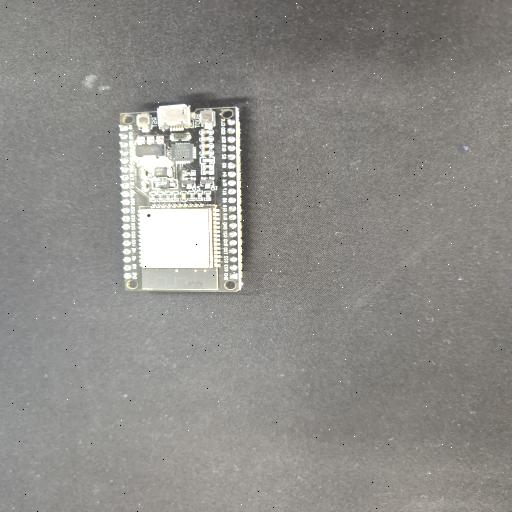esp32-dev: (120, 104, 242, 292)
